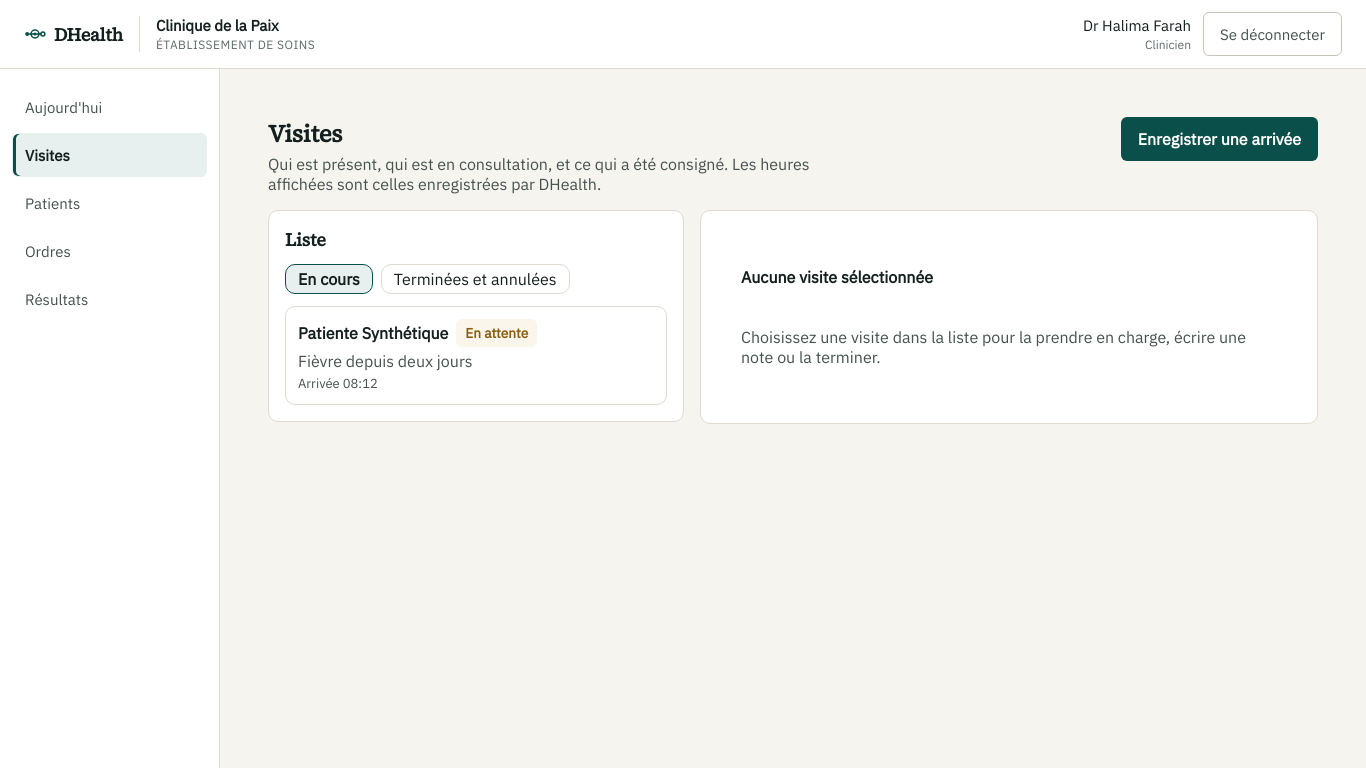
Test: Visites — the clinical note › refuses to offer a note field before the visit is taken, and says why
Click the button "Patiente Synthétique": (373, 333) x1=285 y1=306 x2=667 y2=405
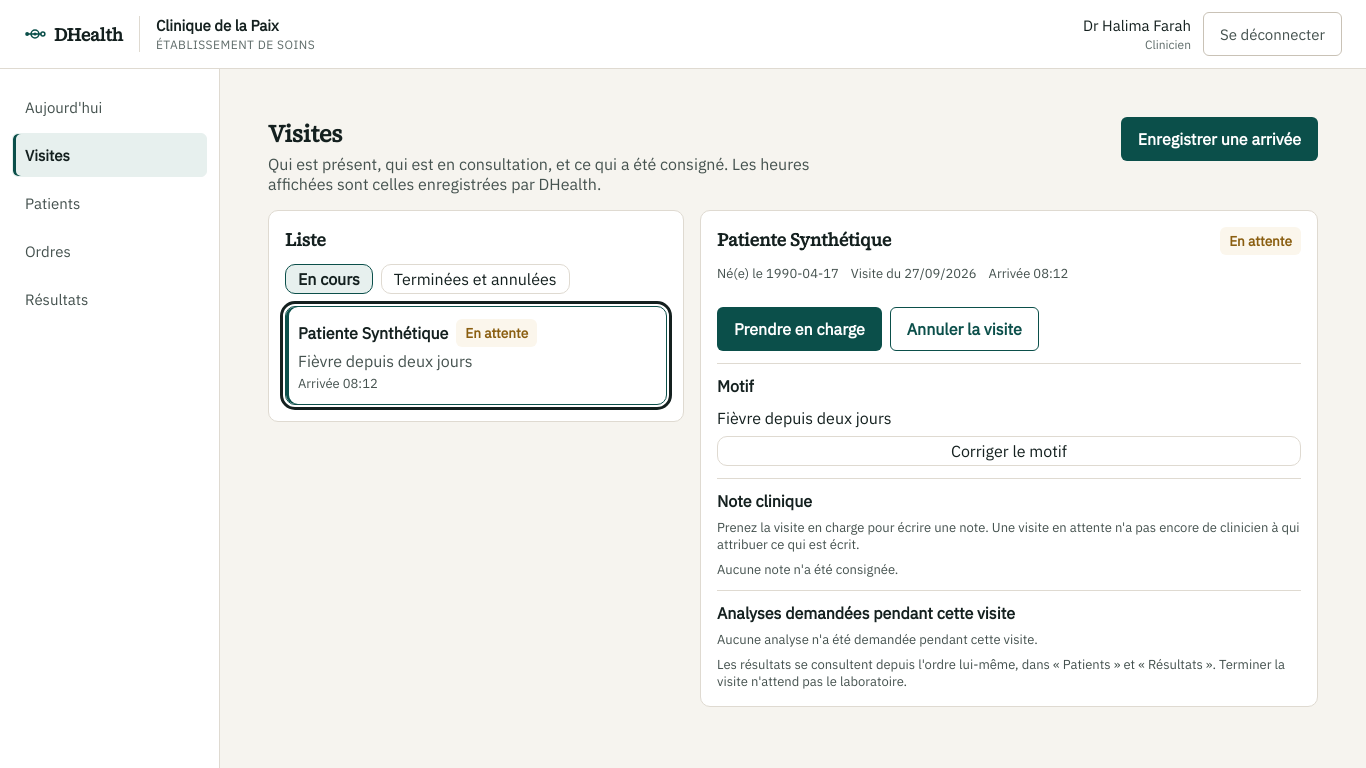
Expected: the text "Prenez la visite en charge pour écrire une note" is shown, x1=717 y1=519 x2=1300 y2=553
